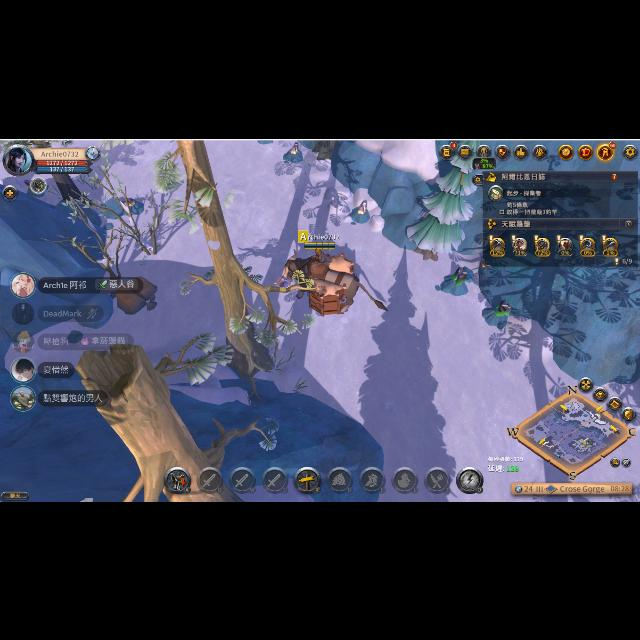mine_ii: (280, 140, 306, 162), (351, 200, 371, 224)
mine_iii: (442, 266, 471, 296), (481, 300, 513, 326)
